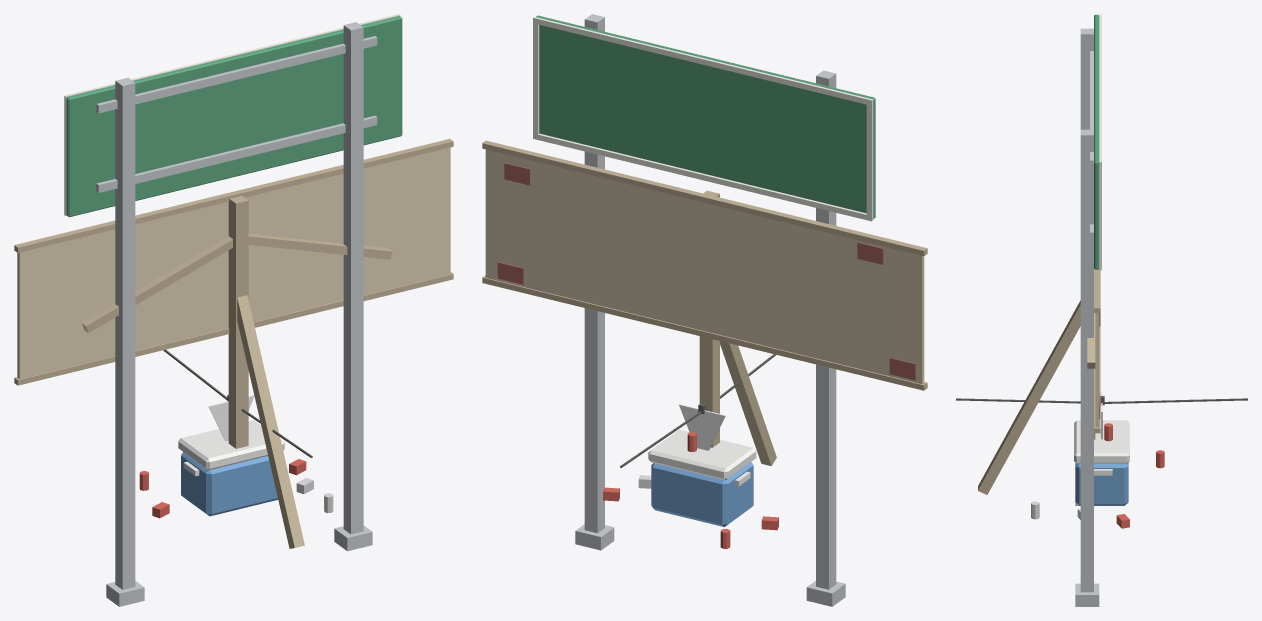
Rendered from gang_road.glb.
3 views of the same model, side by side, from view 1: azimuth 30°, elevation 25°; view 2: azimuth 150°, elevation 25°; view 3: azimuth 270°, elevation 25° (orthographic). The views are drawn at different scales.
Visible parts, largest first — view 1: gr_gangsign_mesh, gr_distsign_mesh, gr_cooler_mesh; view 2: gr_gangsign_mesh, gr_distsign_mesh, gr_cooler_mesh, gr_pennant_paint_mesh; view 3: gr_distsign_mesh, gr_gangsign_mesh, gr_cooler_mesh, gr_pennant_string_mesh.
Part boxes in pixels (x1=…): gr_gangsign_mesh: x1=14, y1=139, x2=453, y2=548; gr_distsign_mesh: x1=64, y1=14, x2=402, y2=606; gr_cooler_mesh: x1=139, y1=420, x2=333, y2=518; gr_gangsign_mesh: x1=482, y1=140, x2=927, y2=465; gr_distsign_mesh: x1=533, y1=14, x2=875, y2=606; gr_cooler_mesh: x1=603, y1=429, x2=778, y2=548; gr_pennant_paint_mesh: x1=679, y1=404, x2=725, y2=450; gr_distsign_mesh: x1=1075, y1=14, x2=1101, y2=606; gr_gangsign_mesh: x1=978, y1=269, x2=1100, y2=494; gr_cooler_mesh: x1=1031, y1=420, x2=1164, y2=528; gr_pennant_string_mesh: x1=956, y1=396, x2=1247, y2=405.
Size of the model in its own units: 3.44 by 3.9 by 2.2.
